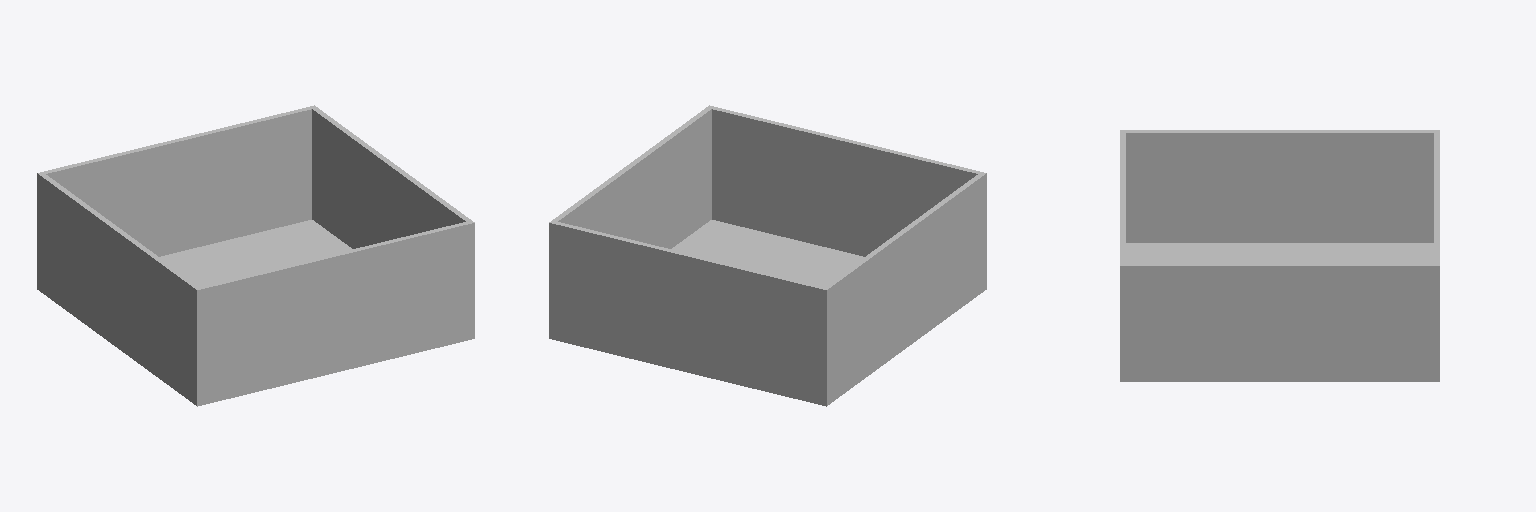
Rendered from package.obj.
3 views of the same model, side by side, from view 1: azimuth 30°, elevation 25°; view 2: azimuth 150°, elevation 25°; view 3: azimuth 270°, elevation 25° (orthographic).
Visible parts, largest first — view 1: Cube.002, Cube.007, Cube.005, Cube.004, Cube.001; view 2: Cube.007, Cube.002, Cube.005, Cube.004, Cube.001; view 3: Cube.004, Cube.005, Cube.001, Cube.002, Cube.007.
Part boxes in pixels (bbox=[...]): Cube.002: bbox=[201, 222, 468, 404]; Cube.007: bbox=[44, 107, 311, 256]; Cube.005: bbox=[37, 172, 202, 406]; Cube.004: bbox=[310, 105, 474, 339]; Cube.001: bbox=[160, 220, 351, 286]; Cube.007: bbox=[555, 222, 822, 404]; Cube.002: bbox=[712, 107, 979, 256]; Cube.005: bbox=[821, 172, 986, 406]; Cube.004: bbox=[549, 105, 713, 339]; Cube.001: bbox=[672, 220, 863, 286]; Cube.004: bbox=[1120, 263, 1439, 381]; Cube.005: bbox=[1120, 130, 1439, 242]; Cube.001: bbox=[1126, 243, 1433, 262]; Cube.002: bbox=[1120, 133, 1125, 262]; Cube.007: bbox=[1434, 133, 1439, 262].
Bounding box in the file's own units: 0.5 × 0.2 × 0.5.